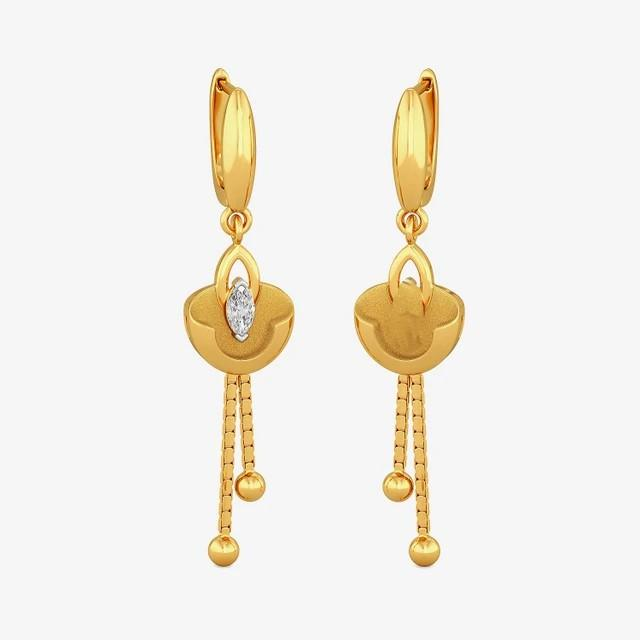missing gem: (395, 280, 419, 328)
